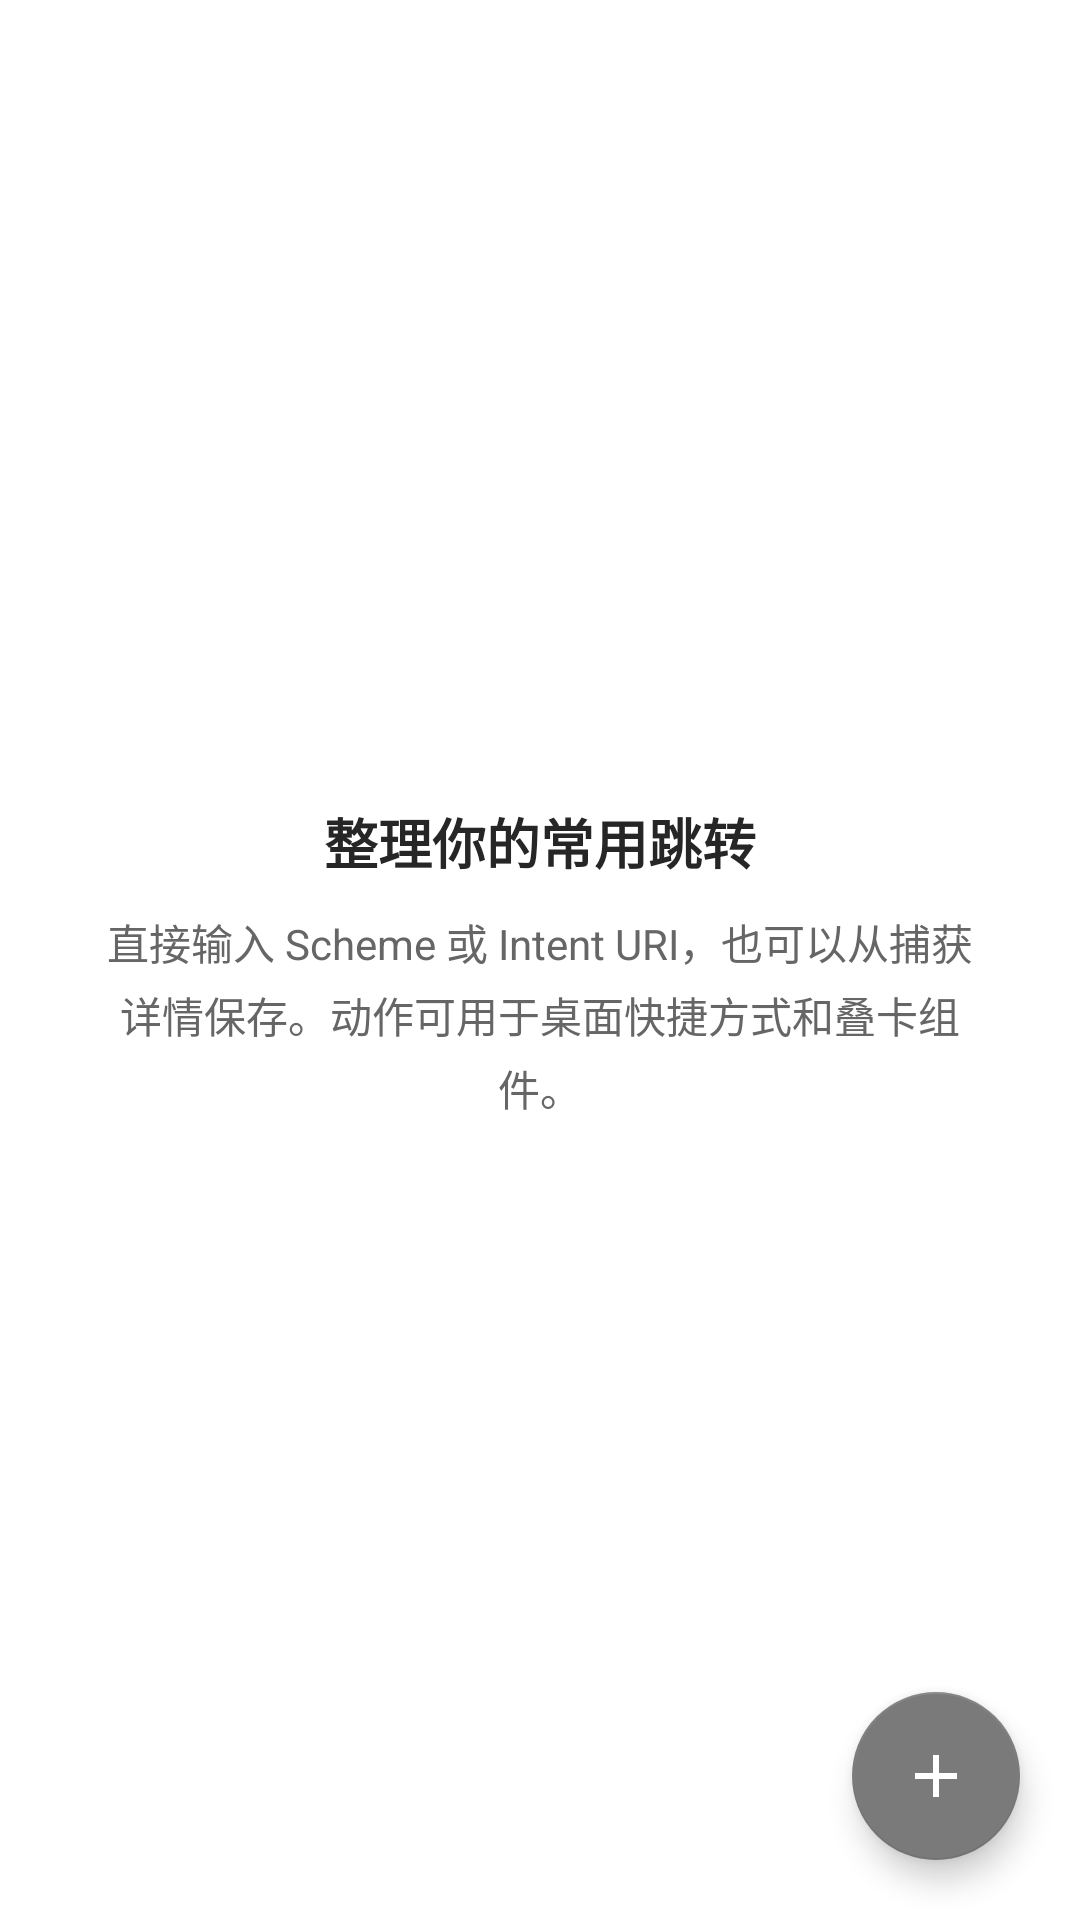

Point at icon controls on the screen. Image size 1080*1920, points as (x,y).
添加动作: (936,1776)
